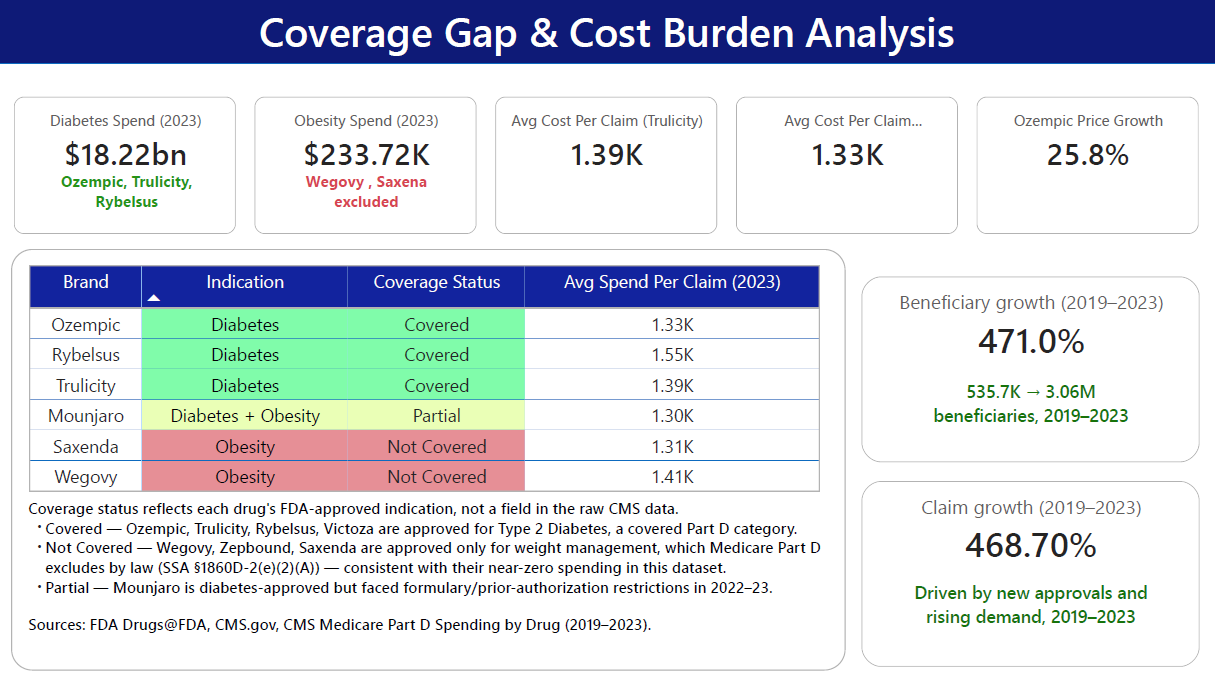

The page's visual inventory and layout, read from the dashboard file:
{"tool":"powerbi","page":{"name":"Page 2","canvas":[1280,720],"ordinal":1},"visuals":[{"type":"shape","box":[0,0,1280,67.8],"z":0},{"type":"cardVisual","fields":{"Data":["public glp.Diabetes_Spend_2023","public glp.Obesity_Spend_2023","public glp.Trulicity_Avg_Clm_2023","public glp.Ozempic_Avg_Clm_2023","public glp.Ozempic_Price_Growth"]},"box":[0,86.4,1280.3,177.3],"z":1000},{"type":"textbox","box":[27.3,175.8,216.7,57.6],"z":2000},{"type":"shape","box":[14.1,262.5,876.6,443.8],"z":3000},{"type":"textbox","box":[283.3,175.8,209.1,62.1],"z":4000},{"type":"tableEx","fields":{"Values":["public glp.Brnd_Name","public glp.Indication","public glp.Coverage_Status","public glp.Avg_Spnd_Per_Clm_2023"]},"box":[26.6,275,854.7,256.2],"z":5000},{"type":"textbox","box":[26.6,518.8,854.7,175],"z":6000},{"type":"cardVisual","fields":{"Data":["public glp.Beneficiary_Growth_19_23","public glp.Claim_Growth_19_23"]},"box":[890.6,275,389.1,443.8],"z":7000},{"type":"textbox","box":[954.7,395.3,262.5,62.5],"z":8000},{"type":"textbox","box":[935.9,606.2,300,75],"z":9000},{"type":"textbox","box":[0,0,1280,67.8],"z":10000}]}

Visuals, with their boxes in screenshot pixels (x1, y1, x2, y2), scaled from the page's 1280x720 canvas onto the 1215x686 screenshot:
shape: box(0, 0, 1214, 65)
cardVisual - public glp.Diabetes_Spend_2023 x public glp.Obesity_Spend_2023: box(0, 82, 1214, 251)
textbox: box(26, 167, 232, 222)
shape: box(13, 250, 845, 673)
textbox: box(269, 167, 467, 227)
tableEx - public glp.Brnd_Name x public glp.Indication: box(25, 262, 837, 506)
textbox: box(25, 494, 837, 661)
cardVisual - public glp.Beneficiary_Growth_19_23 x public glp.Claim_Growth_19_23: box(845, 262, 1214, 685)
textbox: box(906, 377, 1155, 436)
textbox: box(888, 578, 1173, 649)
textbox: box(0, 0, 1214, 65)
